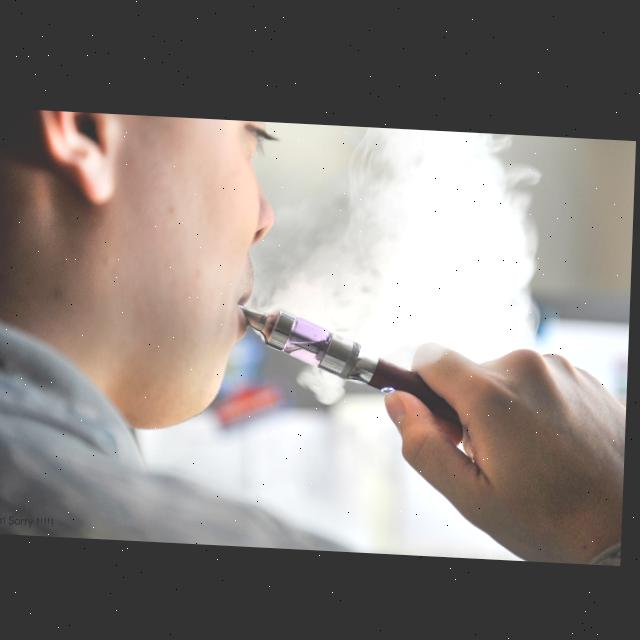vape: (235, 302, 415, 415)
